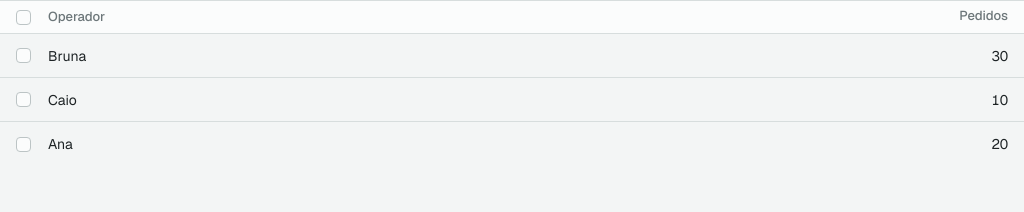
Test: DataTable › seleciona linhas e tudo pelo cabeçalho
Click the checkbox named "Selecionar linha" next to "Bruna" at (24, 56), box [16,48,31,63]
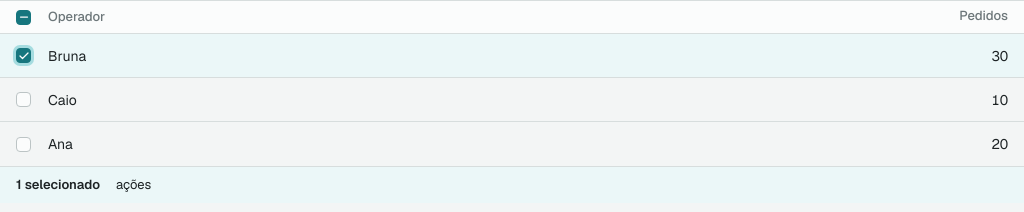
Check: the text "1 selecionado" is shown, box [16,175,100,195]
Click the checkbox named "Selecionar todas as linhas" at (24, 17), box [16,10,31,24]
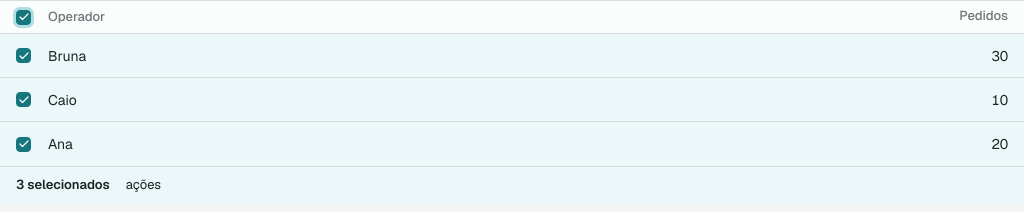
Check: the text "3 selecionados" is shown, box [16,175,110,195]
